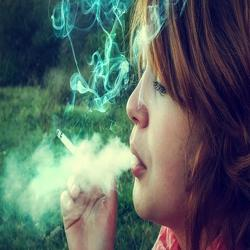smoking: (55, 126, 119, 250)
